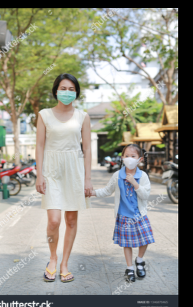with_mask: (57, 85, 77, 104), (122, 152, 140, 169)
